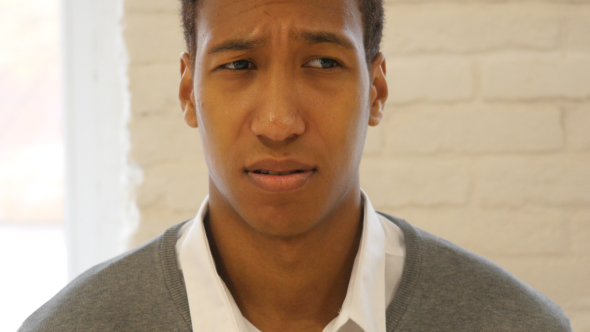confused: (198, 15, 367, 239)
